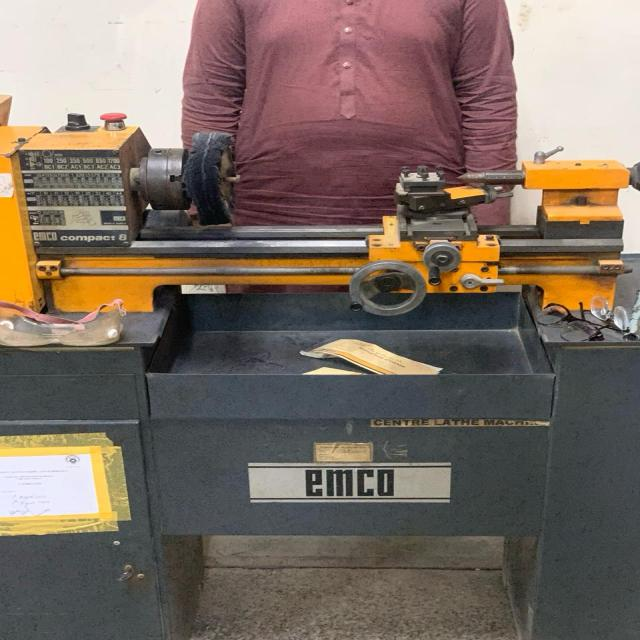dress: (177, 0, 520, 258)
